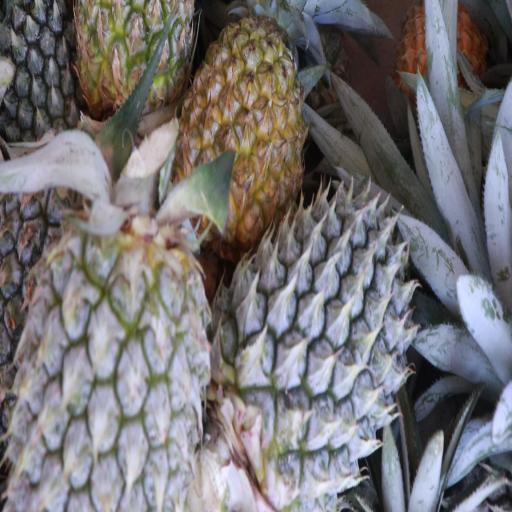------------------------------: (68, 0, 190, 113)
Pineapple - v8 v1: (180, 30, 298, 232)
